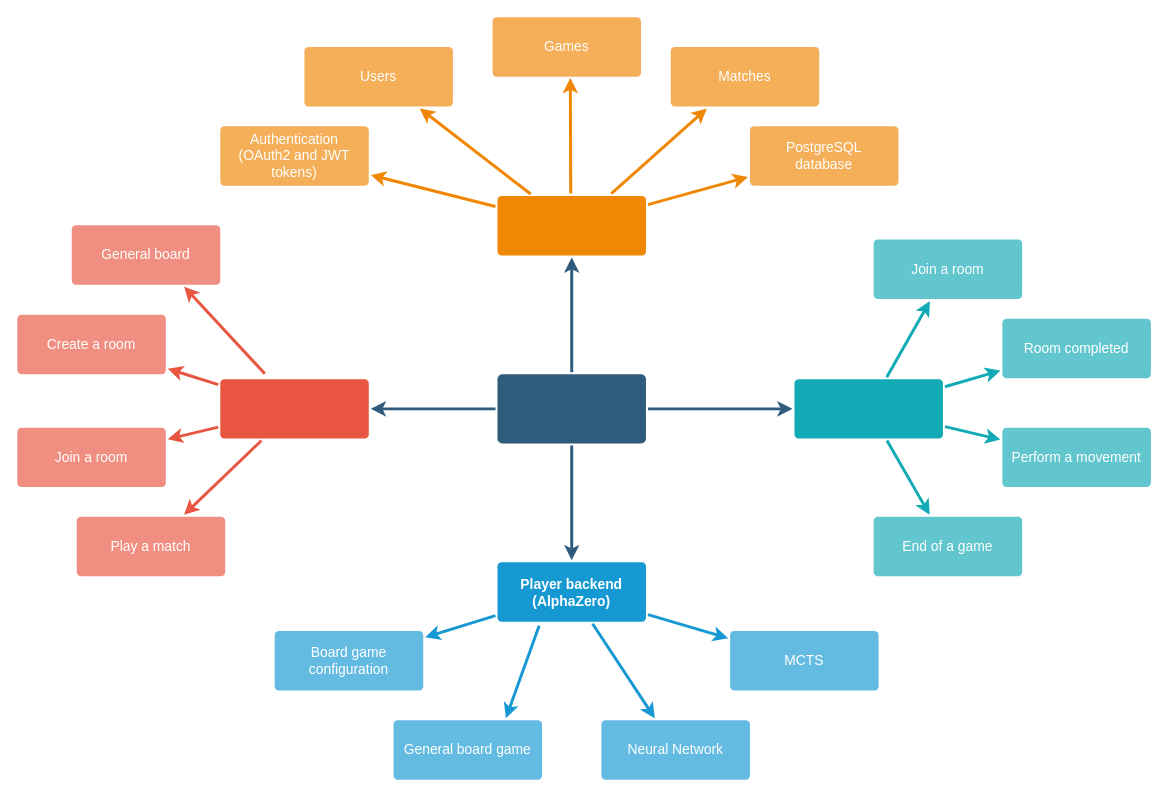
Some shapes in this 1167 by 796 pixel diagram are drawn without their labels. The shapes that lost their labels are listed below. From the top down, each one's box as (x1, y1, x2, y2) in pixels, then its label:
(497, 196, 645, 255): Backend (FastAPI)
(220, 379, 368, 438): Web-based frontend (Vue.js)
(497, 374, 645, 443): Automatic player generator
(794, 379, 942, 438): Match backend (socket.io)
